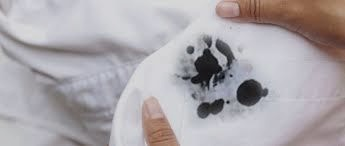ink: (192, 50, 219, 84), (236, 80, 264, 105), (198, 99, 223, 119), (217, 40, 231, 57)
